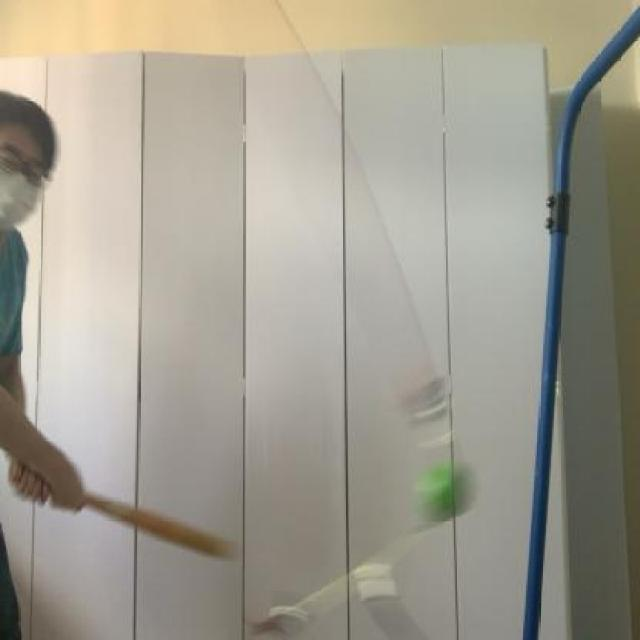baseball: (412, 460, 474, 522)
